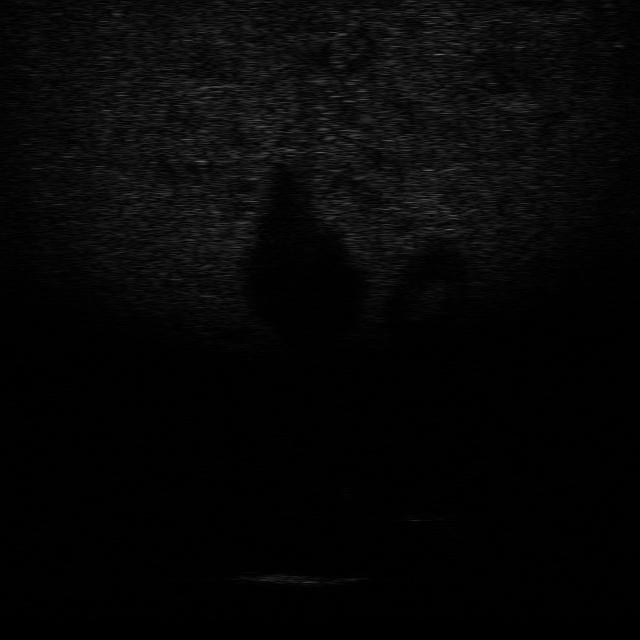ball: (319, 454, 371, 479)
metal bucket: (245, 566, 364, 592)
tyre: (394, 494, 465, 524)
